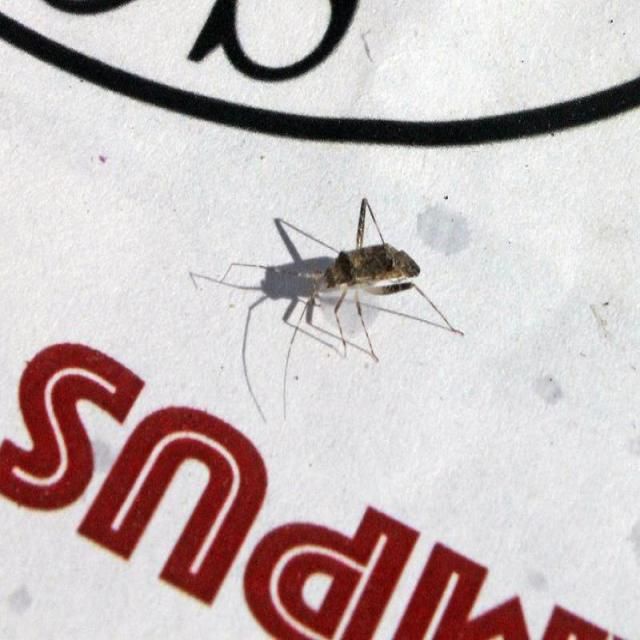Miridae-Adult-: (268, 198, 456, 364)
